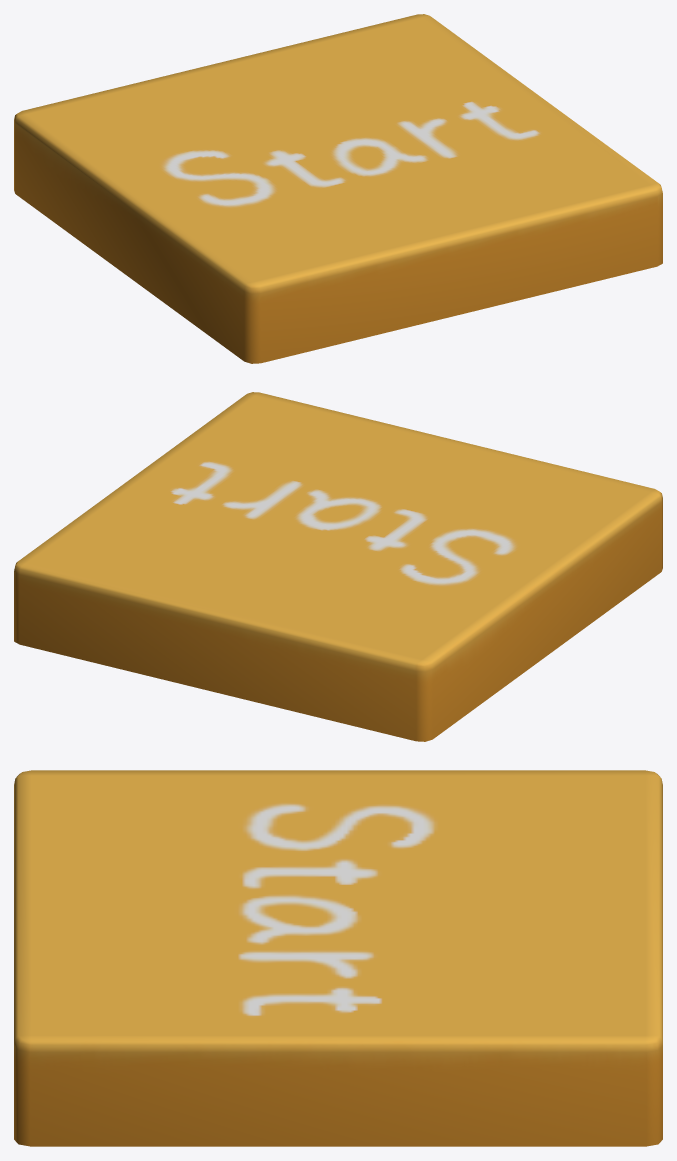
The model's file is start.glb.
3 renders of one model, top to bottom at view 1: azimuth 30°, elevation 25°; view 2: azimuth 150°, elevation 25°; view 3: azimuth 270°, elevation 25°, orthographic. The views are drawn at different scales.
Parts seen in each view (by area): view 1: start; view 2: start; view 3: start.
Boxes of the visible parts, <box> form: start: <box>14,14,662,363</box>; start: <box>14,392,662,741</box>; start: <box>14,770,662,1146</box>.
Size of the model in its own units: 0.3627 by 0.064 by 0.3627.
1 material, 1 textured.
